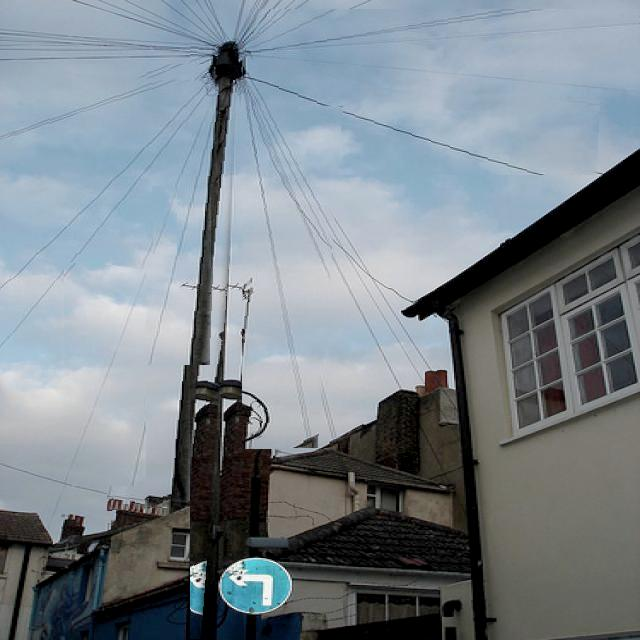pole: (190, 45, 244, 592)
wire: (0, 81, 219, 360), (7, 79, 211, 300), (107, 106, 211, 509), (243, 107, 324, 449), (269, 83, 561, 175), (65, 269, 146, 486), (0, 64, 189, 141), (254, 9, 584, 53), (153, 189, 177, 254), (184, 148, 191, 172), (57, 496, 63, 505)
